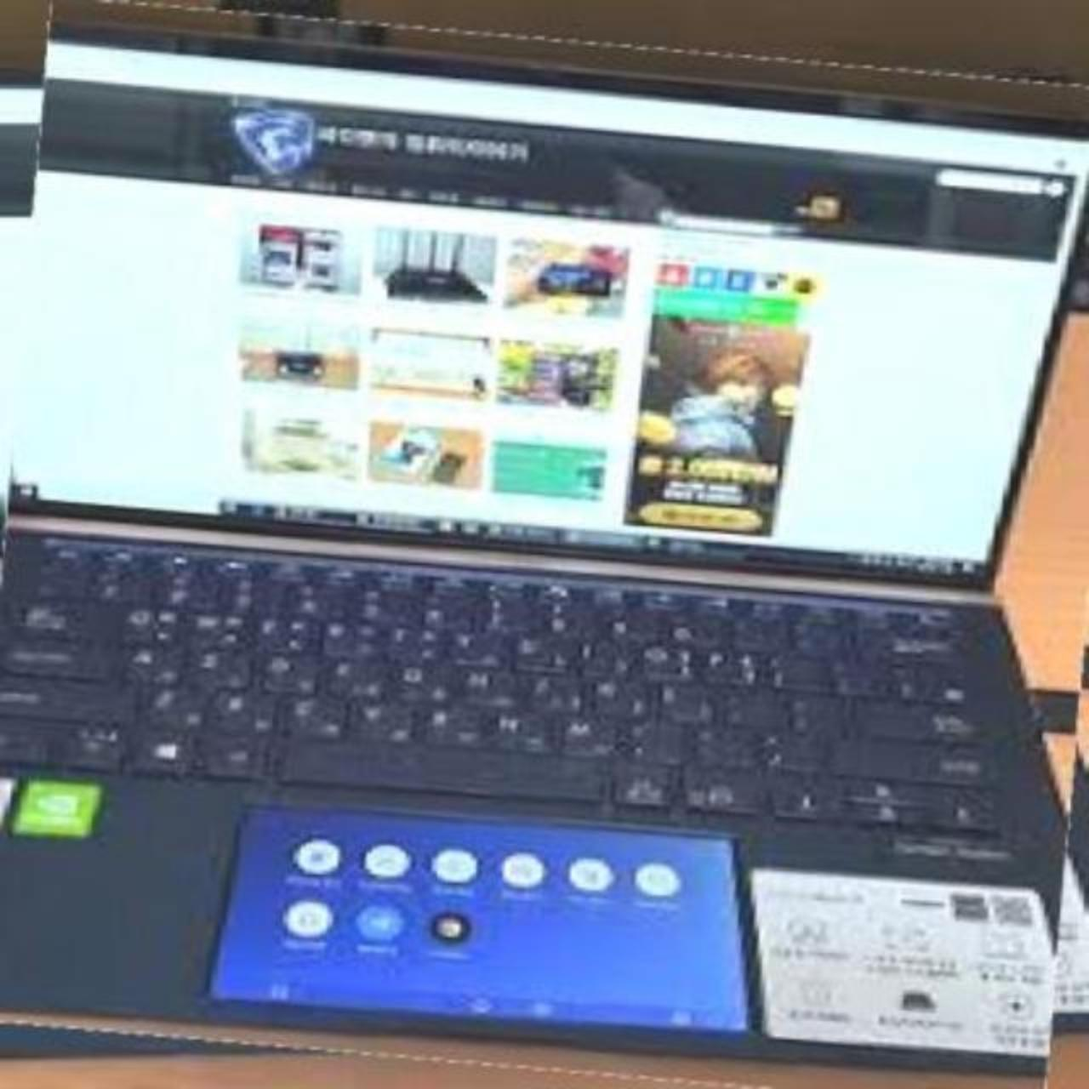laptop: (0, 18, 1089, 1088)
